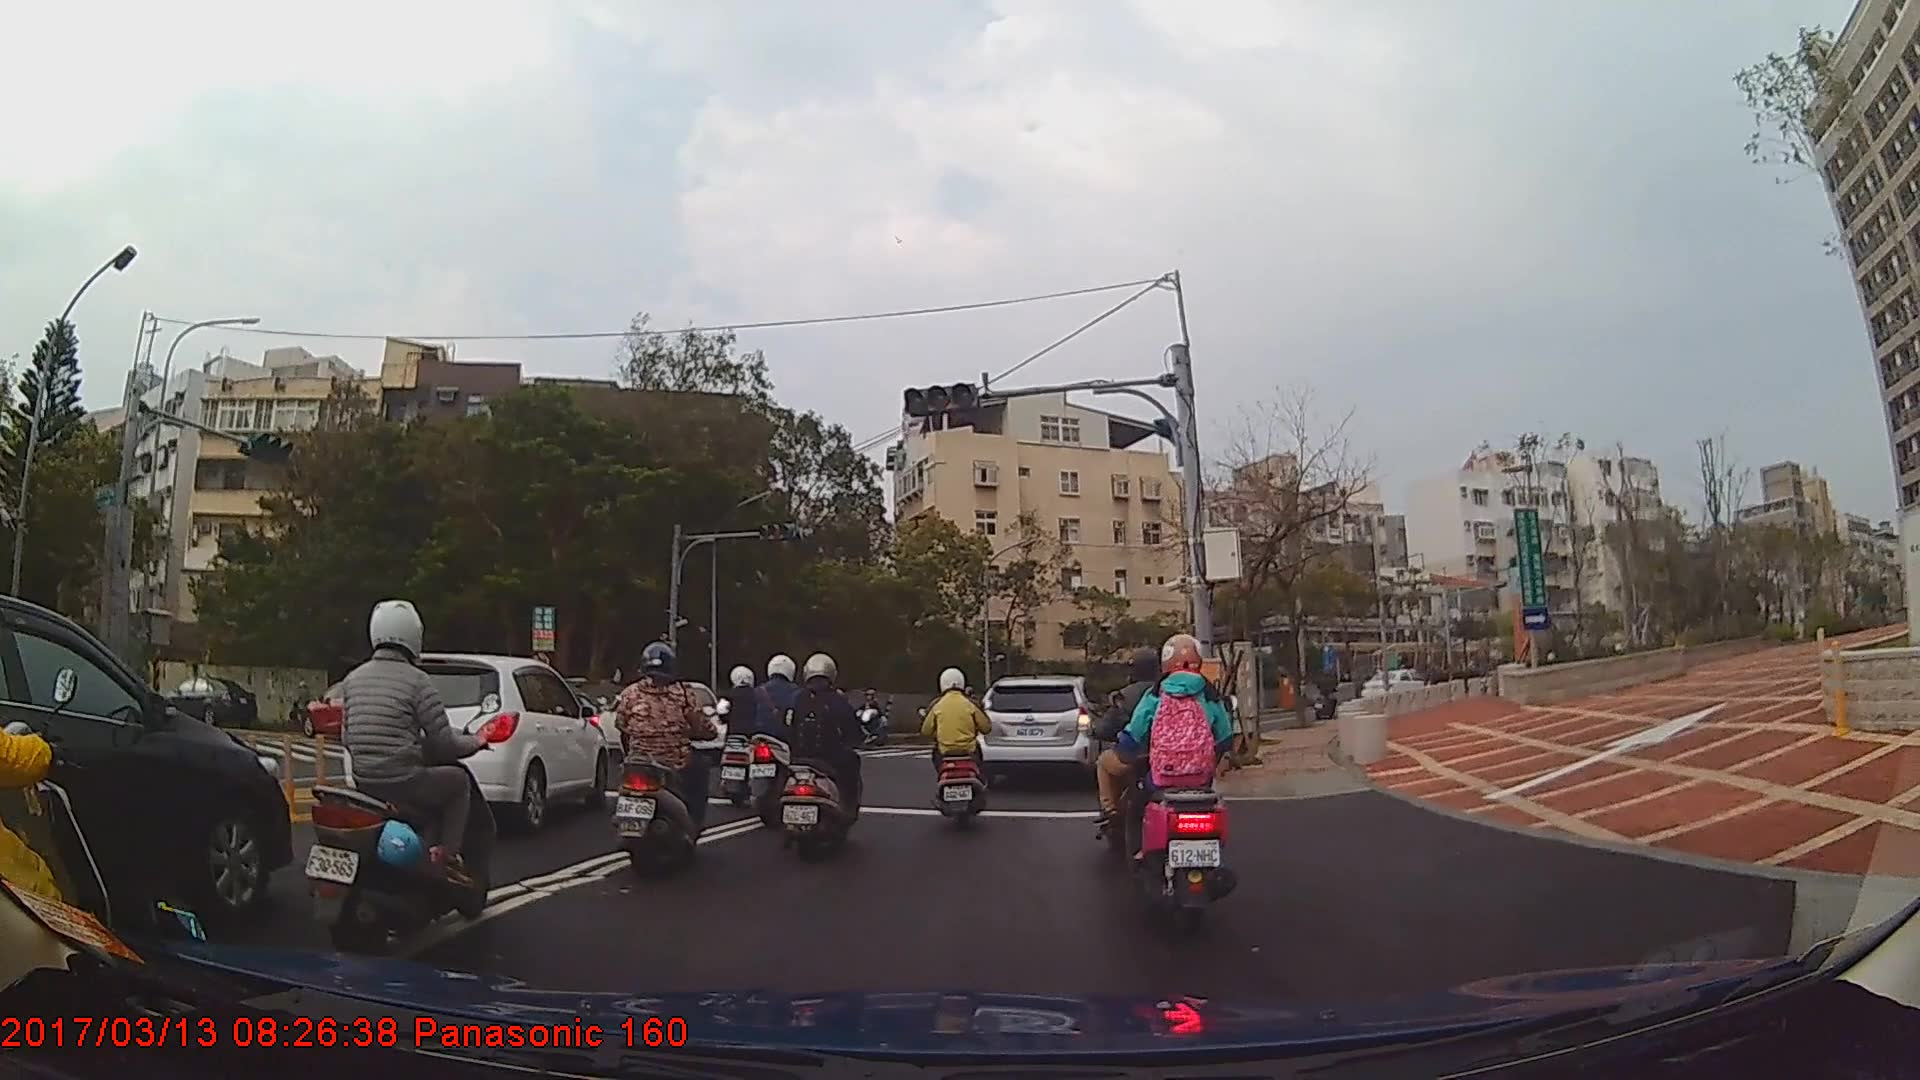rider: (303, 596, 504, 957), (1121, 632, 1238, 927), (605, 640, 721, 886), (1088, 641, 1197, 859), (778, 648, 873, 864), (743, 650, 819, 824), (920, 666, 1000, 825), (716, 667, 778, 806), (857, 688, 892, 746)
vehicle: (0, 593, 292, 924), (339, 649, 605, 838), (975, 672, 1117, 788), (302, 677, 404, 736), (154, 674, 258, 729), (1362, 668, 1432, 700)
